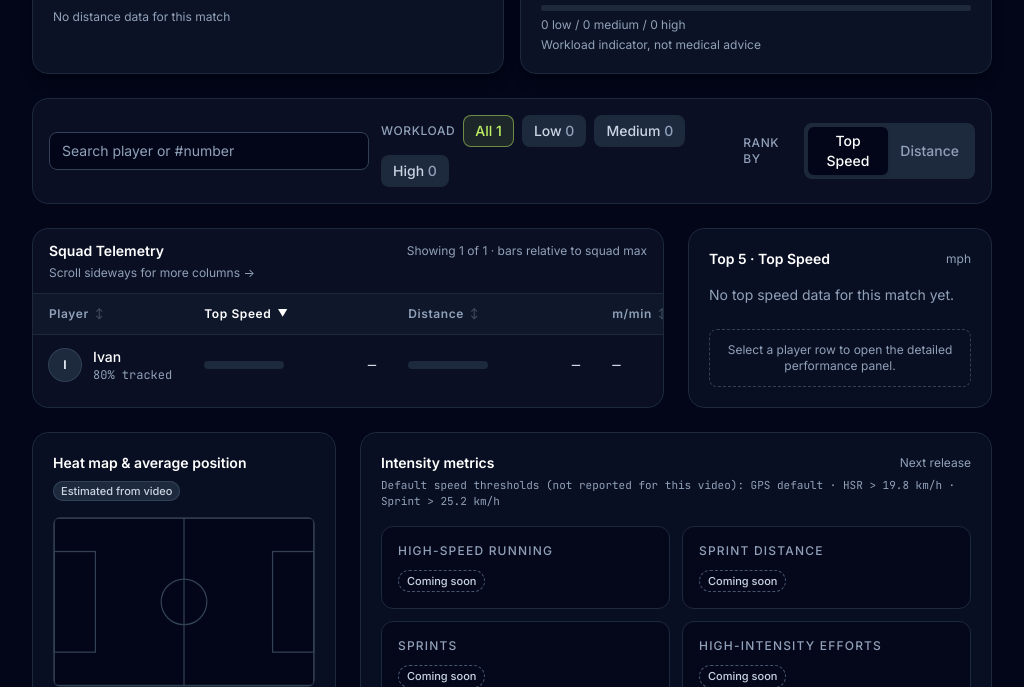
Test case: speed_thresholds.source and v0.4.1 numbers › coverage badge shows short-clip minutes with 2 decimals
(page scrolled)
Click the text "Ivan".
click(107, 356)  # box [93,348,121,364]
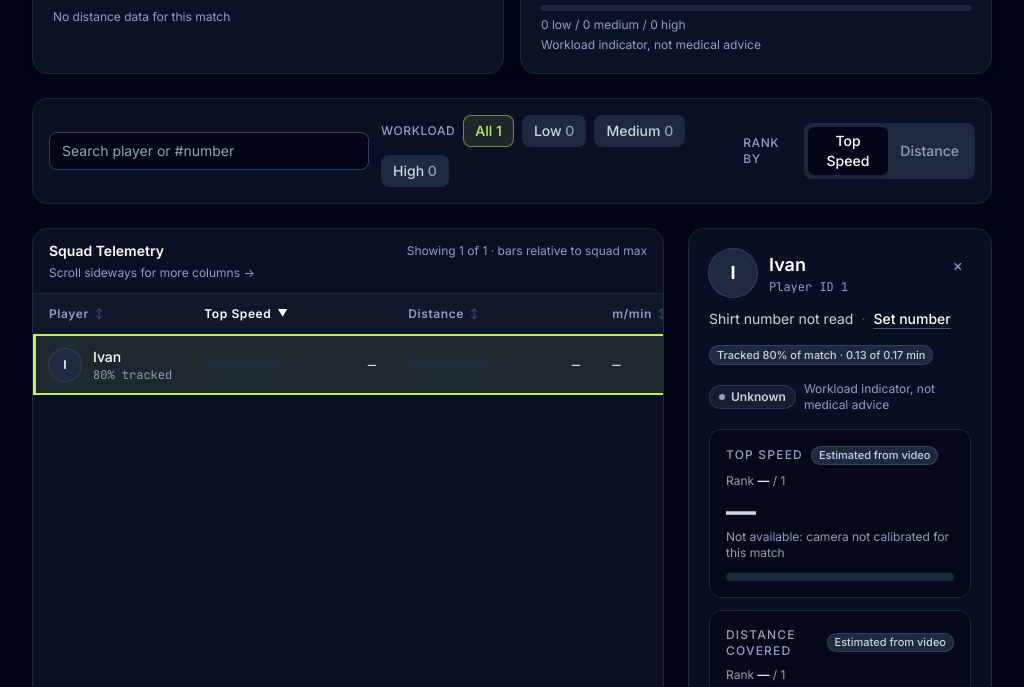
Check: the text "Tracked 80% of match · 0.13 of 0.17 min" is shown, box [709,344,933,365]
